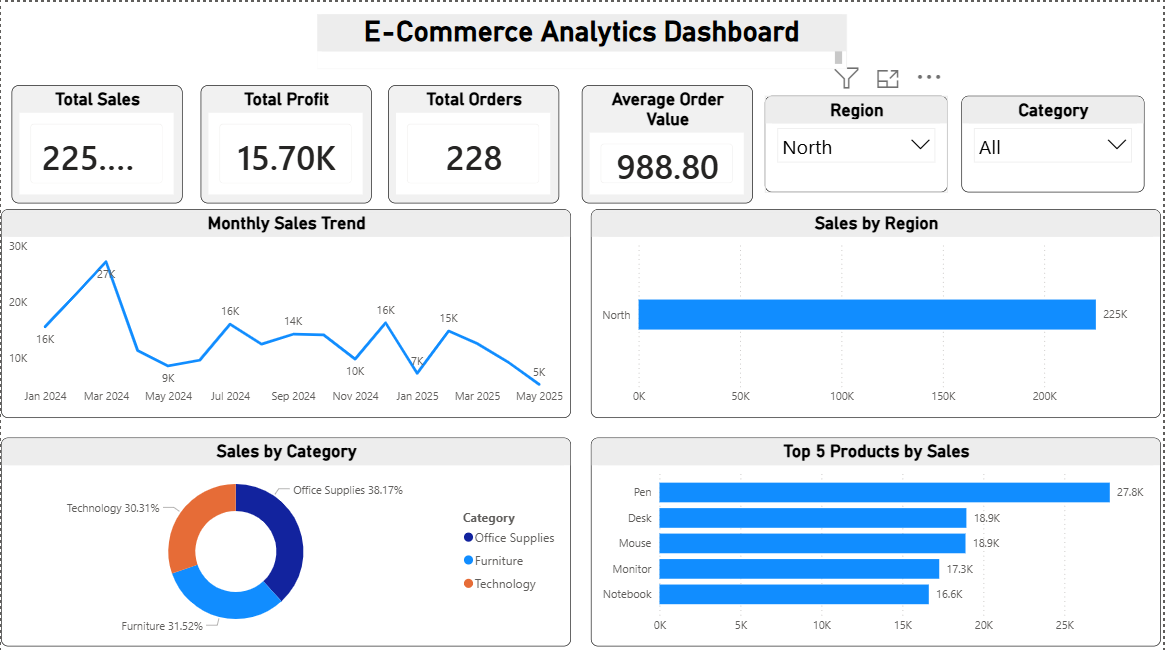

Layout of this report page (visuals, bound fields, positions):
{"tool":"powerbi","page":{"name":"Executive Overview","canvas":[1280,720],"ordinal":0},"visuals":[{"type":"cardVisual","title":"Total Sales","fields":{"Data":["Ecommerce_Data.Total Sales"]},"box":[11.7,91.7,188.3,130],"z":0},{"type":"cardVisual","title":"Average Order Value","fields":{"Data":["Ecommerce_Data.Average Order Value"]},"box":[640,91.7,188.3,130],"z":1000},{"type":"cardVisual","title":"Total Orders","fields":{"Data":["Ecommerce_Data.Total Orders"]},"box":[426.7,91.7,188.3,130],"z":2000},{"type":"cardVisual","title":"Total Profit","fields":{"Data":["Ecommerce_Data.Total Profit"]},"box":[220,91.7,188.3,130],"z":3000},{"type":"lineChart","title":"Monthly Sales Trend","fields":{"Y":["Ecommerce_Data.Total Sales"],"Category":["Ecommerce_Data.Order Date.Variation.Date Hierarchy.Year","Ecommerce_Data.Order Date.Variation.Date Hierarchy.Month"]},"box":[0,228.3,628.3,230],"z":4000},{"type":"clusteredBarChart","title":"Sales by Region","fields":{"Category":["Ecommerce_Data.Region"],"Y":["Ecommerce_Data.Total Sales"]},"box":[650,228.3,628.3,230],"z":5000},{"type":"donutChart","title":"Sales by Category","fields":{"Category":["Ecommerce_Data.Category"],"Y":["Ecommerce_Data.Total Sales"]},"box":[0,480,628.3,230],"z":6000},{"type":"slicer","title":"Region","fields":{"Values":["Ecommerce_Data.Region"]},"box":[841.7,103.3,201.7,106.7],"z":7000},{"type":"slicer","title":"Category","fields":{"Values":["Ecommerce_Data.Category"]},"box":[1058.3,103.3,201.7,106.7],"z":8000},{"type":"clusteredBarChart","title":"Top 5 Products by Sales","fields":{"Category":["Ecommerce_Data.Product Name"],"Y":["Ecommerce_Data.Total Sales"]},"box":[650,480,628.3,230],"z":9000},{"type":"textbox","title":"E-Commerce Analytics Dashboard","box":[348.3,13.3,583.3,60],"z":10000}]}

Visuals, with their boxes in screenshot pixels (x1, y1, x2, y2), scaled from the page's 1280x720 canvas onto the 1167x650 screenshot:
"Total Sales" cardVisual: x1=11 y1=83 x2=182 y2=200
"Average Order Value" cardVisual: x1=584 y1=83 x2=755 y2=200
"Total Orders" cardVisual: x1=389 y1=83 x2=561 y2=200
"Total Profit" cardVisual: x1=201 y1=83 x2=372 y2=200
"Monthly Sales Trend" lineChart: x1=0 y1=206 x2=573 y2=414
"Sales by Region" clusteredBarChart: x1=593 y1=206 x2=1165 y2=414
"Sales by Category" donutChart: x1=0 y1=433 x2=573 y2=641
"Region" slicer: x1=767 y1=93 x2=951 y2=190
"Category" slicer: x1=965 y1=93 x2=1149 y2=190
"Top 5 Products by Sales" clusteredBarChart: x1=593 y1=433 x2=1165 y2=641
"E-Commerce Analytics Dashboard" textbox: x1=318 y1=12 x2=849 y2=66
